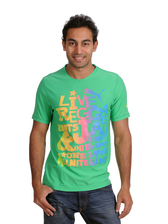clothoes: (27, 63, 130, 190)
